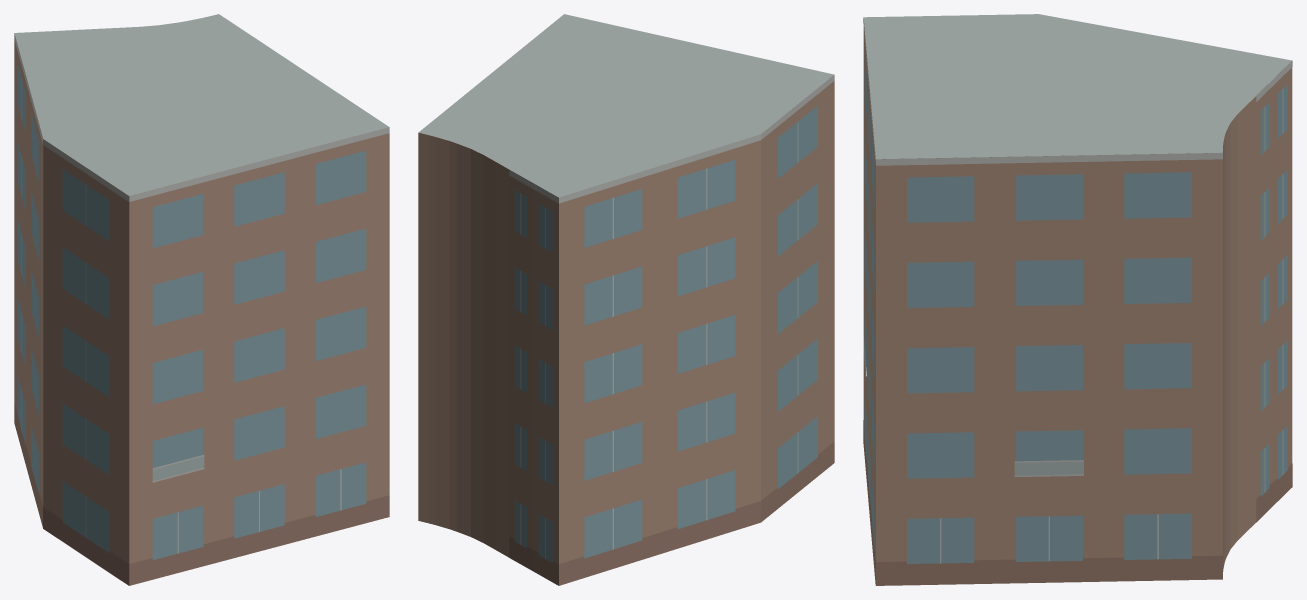
Rendered from survey-upis-32594729.glb.
The picture shows the model from 3 angles, left to right: view 1: azimuth 30°, elevation 25°; view 2: azimuth 150°, elevation 25°; view 3: azimuth 270°, elevation 25°; orthographic projection. The views are drawn at different scales.
Visible parts, largest first — view 1: survey-upis-32594729.tmp; view 2: survey-upis-32594729.tmp; view 3: survey-upis-32594729.tmp.
Boxes of the visible parts, box(x1,y1,x2,y2) form: survey-upis-32594729.tmp: box(14, 14, 389, 585); survey-upis-32594729.tmp: box(418, 14, 834, 585); survey-upis-32594729.tmp: box(863, 14, 1292, 585).
Size of the model in its own units: 11.62 by 15.9 by 14.49.
